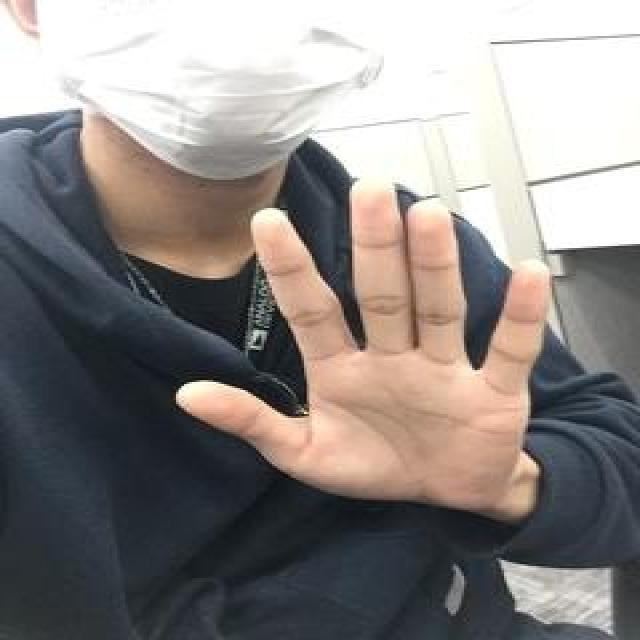hand: (176, 173, 552, 523)
